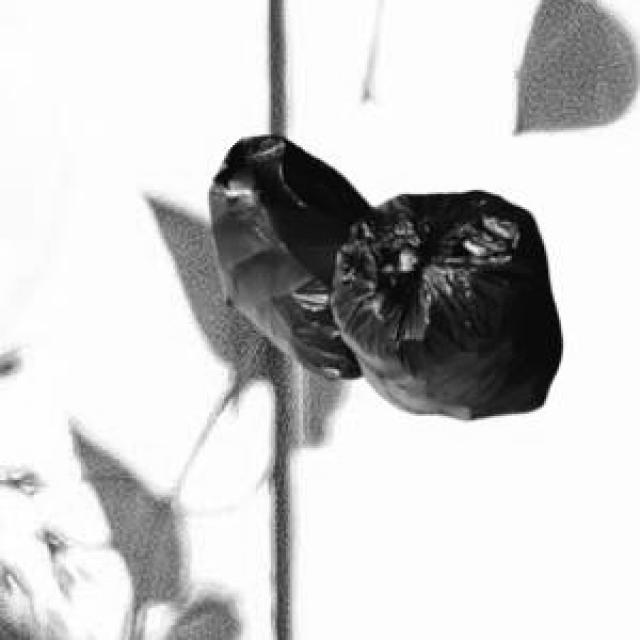miscellaneous trash: (205, 132, 557, 416)
